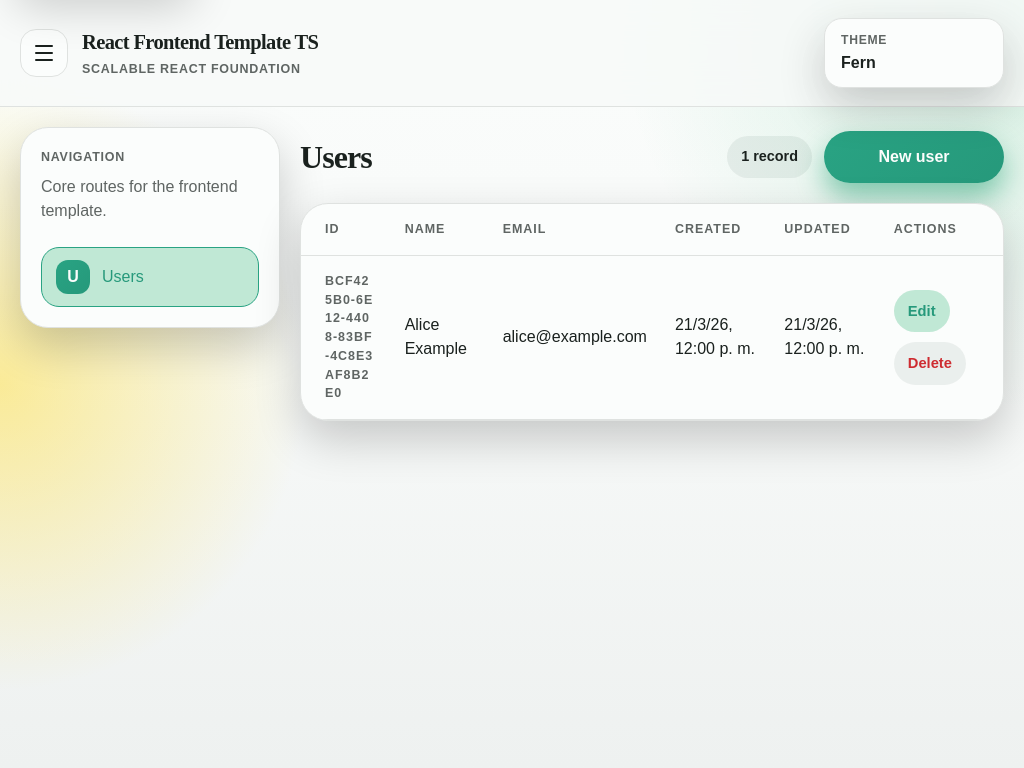
App › surfaces deletion failures through the page model
Check: the text "alice@example.com" is shown, box [489, 256, 661, 420]
Step 1. Click the button with aria-label "Delete Alice Example" → click(930, 364), box [894, 342, 966, 385]
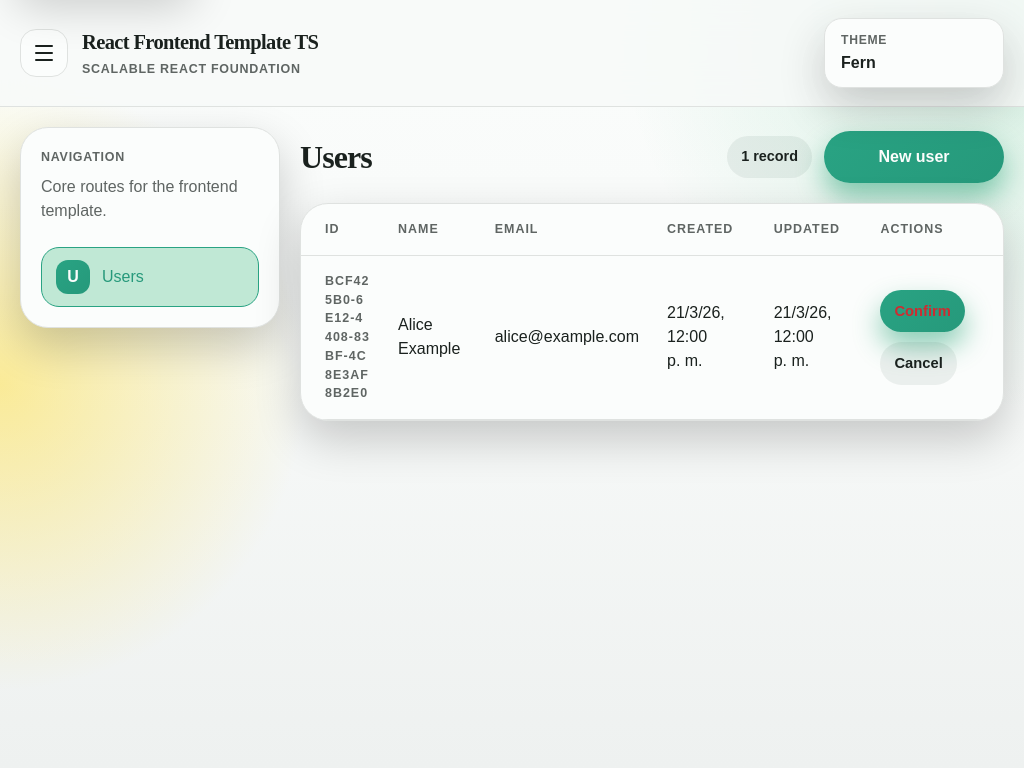
Step 2. Click the button with aria-label "Confirm deleting Alice Example" → click(923, 311), box [880, 290, 965, 332]
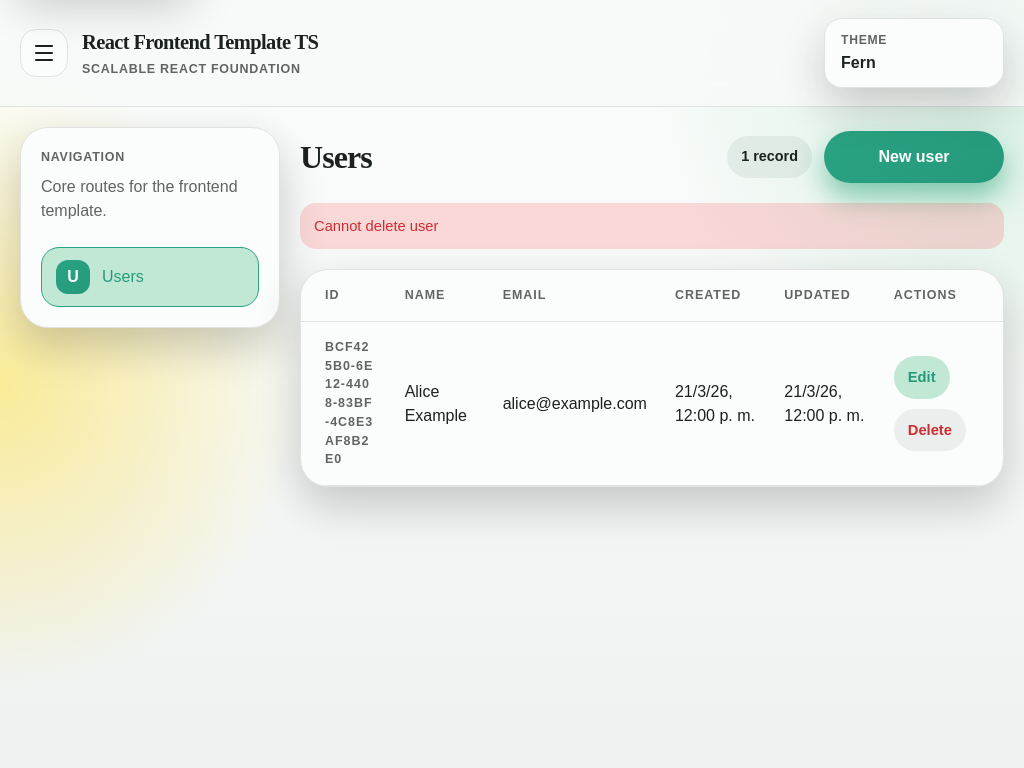
Check: the message reads "Cannot delete user", box [314, 218, 438, 234]
